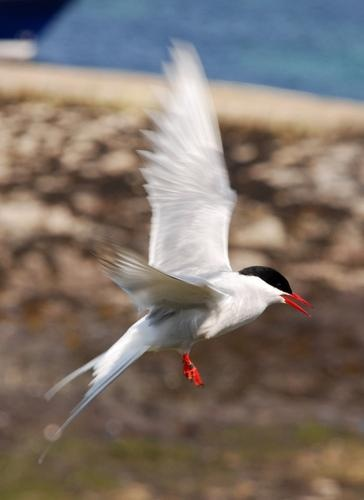bird: (29, 38, 317, 461)
